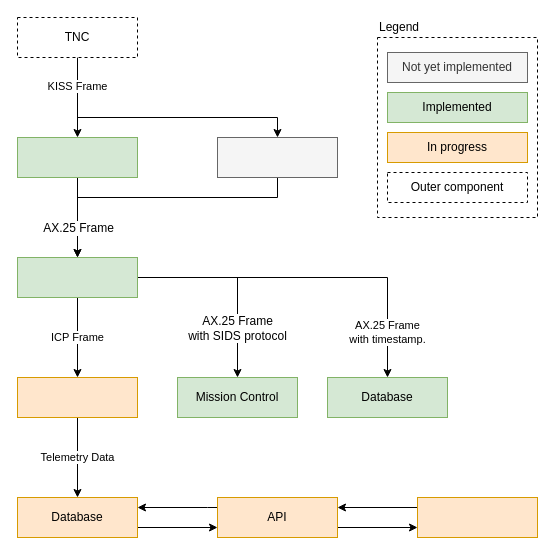
This 555x555 diagram has some shape labels left out. Here are the shapes that lost their labels. From the top down, the box of each, then its label:
(16, 136, 138, 178): KISS Interface (TCP)
(216, 136, 338, 178): KISS Interface (RS232)
(16, 256, 138, 298): AX.25 Decoder
(16, 376, 138, 418): ICP Decoder
(416, 496, 538, 538): Frontend
